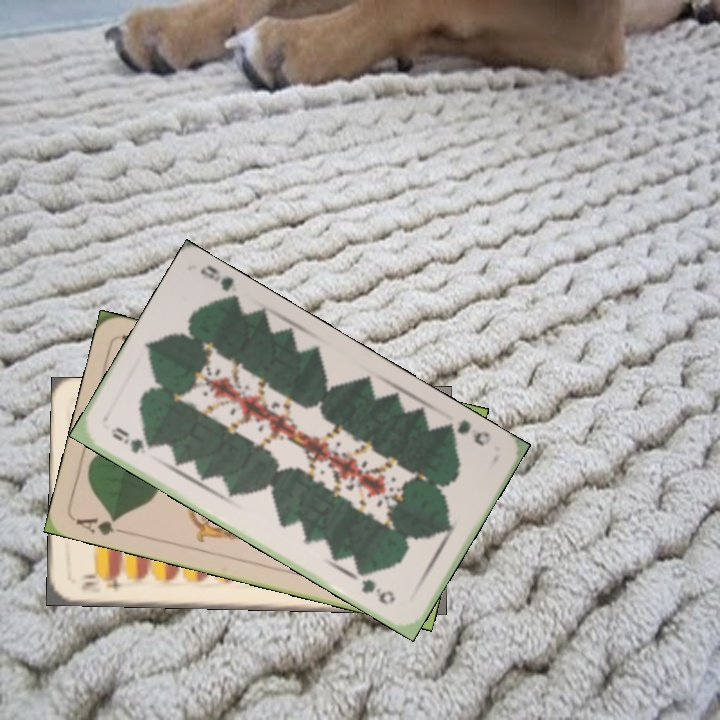E10: (76, 571, 125, 594)
G9: (442, 415, 494, 449), (107, 423, 153, 457)
GA: (71, 511, 130, 538)
